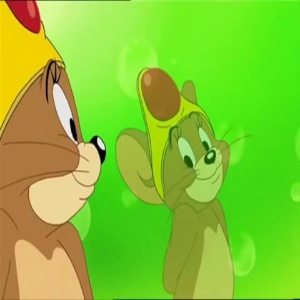Jerry: (1, 63, 116, 215)
